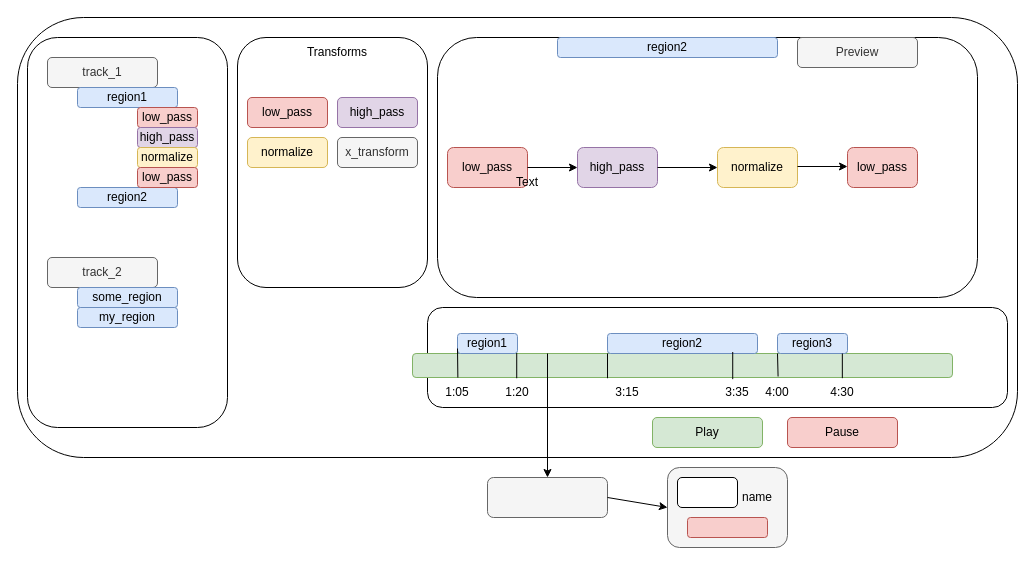
Image size: 1035x565. Some labels were removed from this diagram. The centre of each missing label's shape, as x and y in pixels:
"create" belongs at (727,527).
"Create Region" belongs at (547,497).
